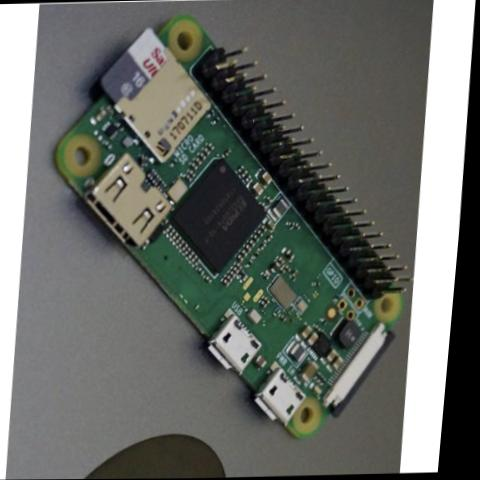Raspberry-Pi-Zero-WH: (32, 7, 440, 450)
